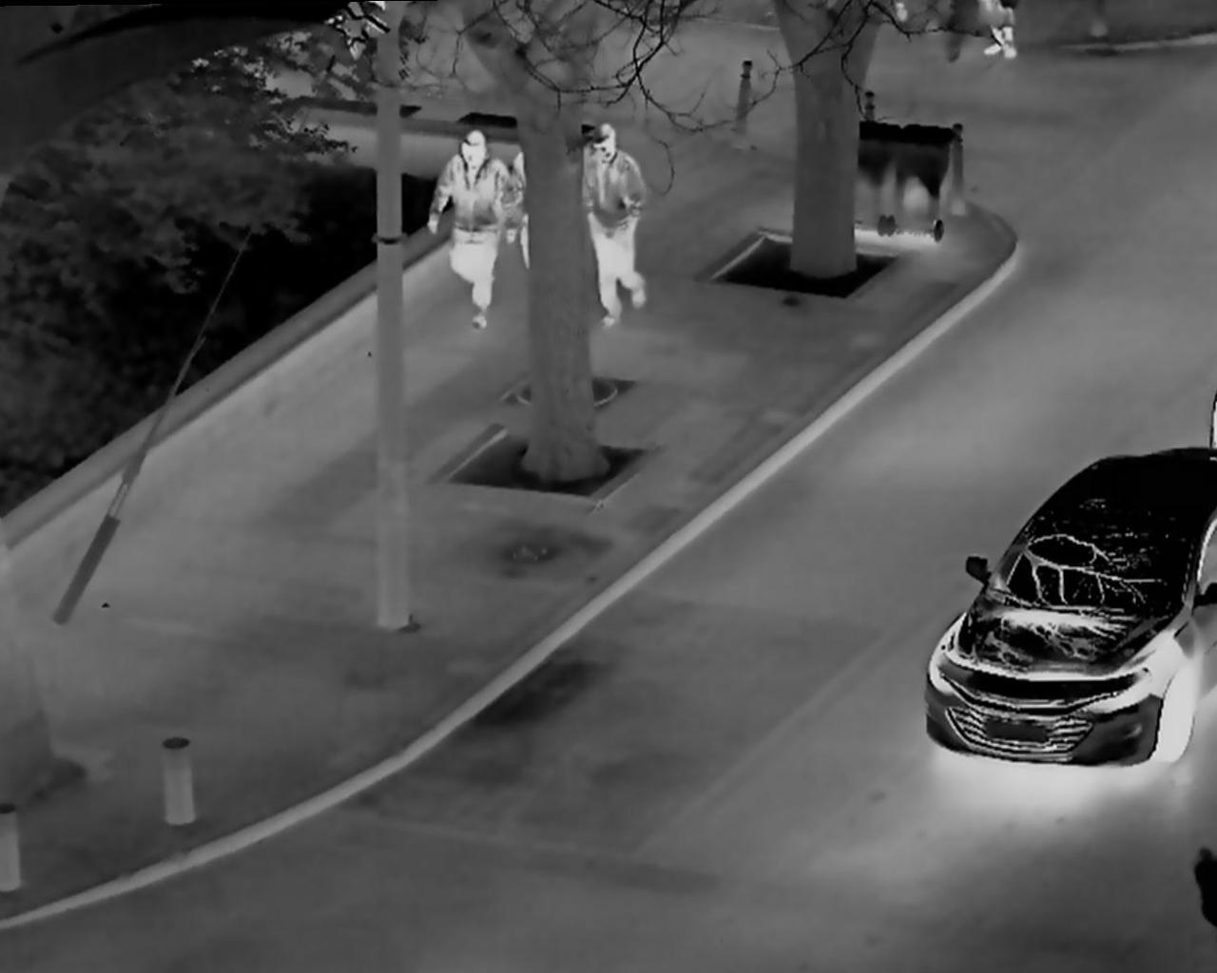person: (577, 115, 666, 322), (435, 122, 510, 345)
